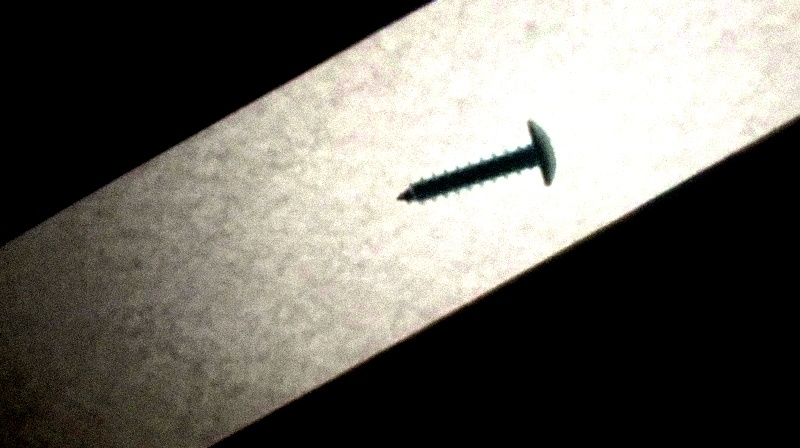S003: (390, 116, 560, 207)
